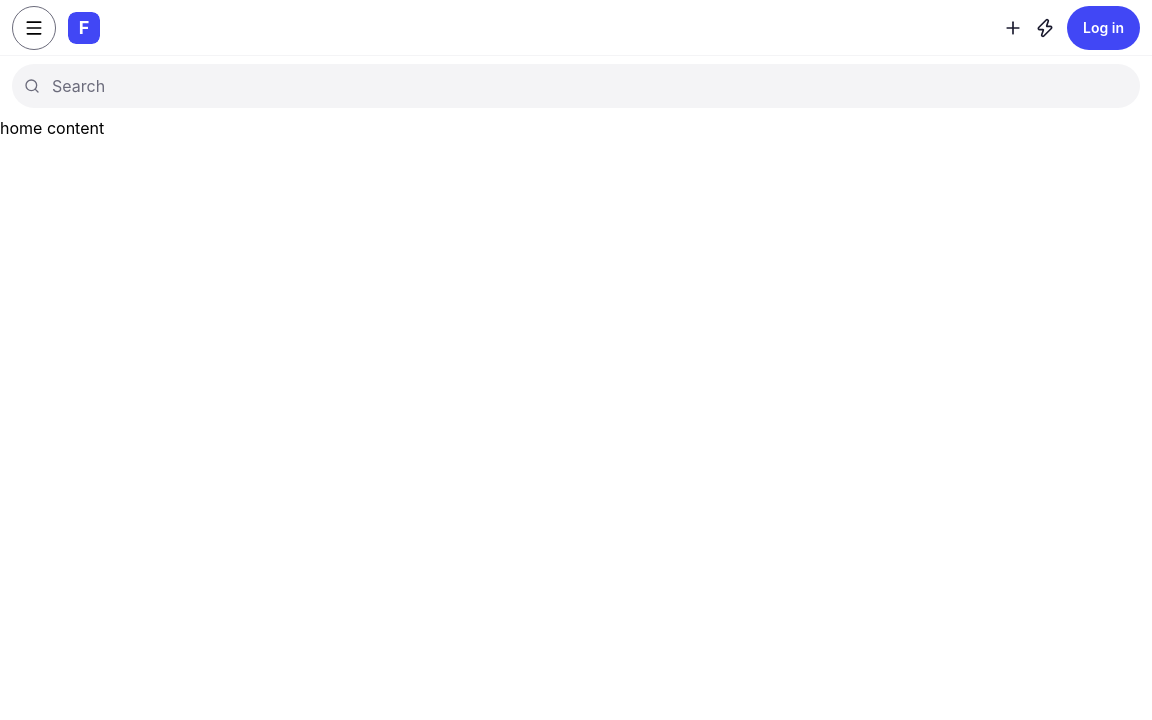
Test case: AppShell › opens the side drawer when the hamburger is clicked
The width and height of the screenshot is (1152, 720).
Click the button named "Open menu". click: (34, 28)
box: [12, 6, 56, 50]
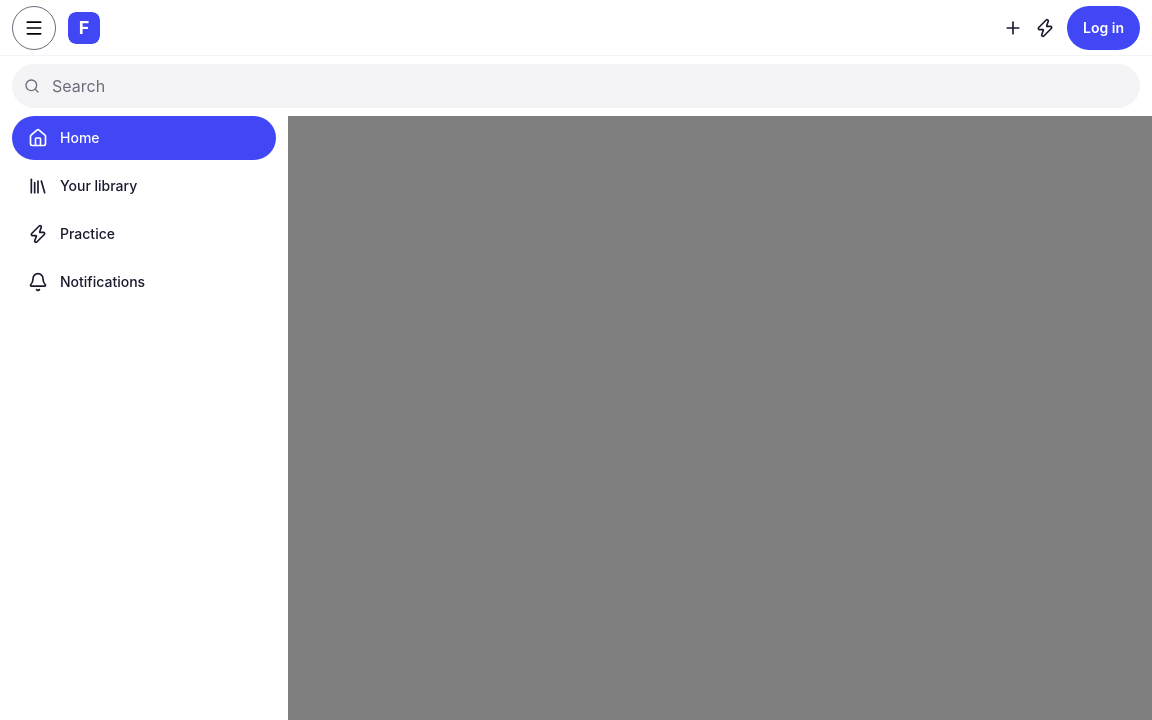
Now the dialog named "Main menu" is shown, box [0, 0, 288, 719]
